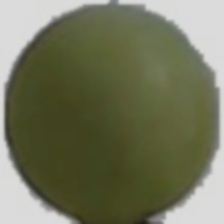grapes: (26, 7, 165, 199)
